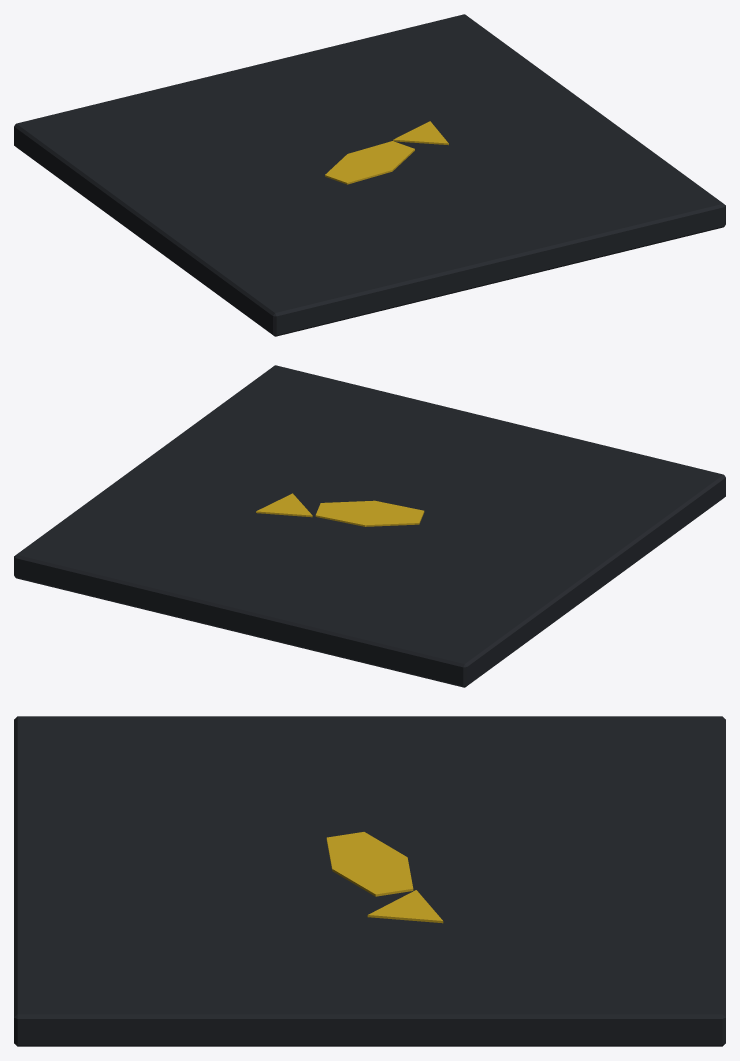
File: zc_road_tile.mobile-low.glb
3 renders of one model, top to bottom at view 1: azimuth 30°, elevation 25°; view 2: azimuth 150°, elevation 25°; view 3: azimuth 270°, elevation 25°, orthographic. The views are drawn at different scales.
Visible parts, largest first — view 1: zc_road_tile; view 2: zc_road_tile; view 3: zc_road_tile.
Boxes of the visible parts, x1,y1,x2,y2 form: zc_road_tile: [14, 14, 725, 336]; zc_road_tile: [14, 365, 725, 687]; zc_road_tile: [14, 716, 725, 1046].
Bounding box in the file's own units: 2 × 0.107 × 2.
1 material, 1 textured.
